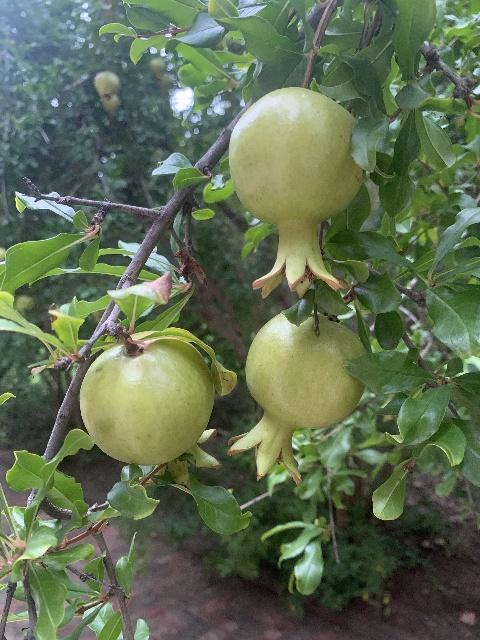mid-growth: (227, 87, 365, 300), (226, 310, 366, 486), (79, 330, 221, 488), (94, 71, 120, 101)
